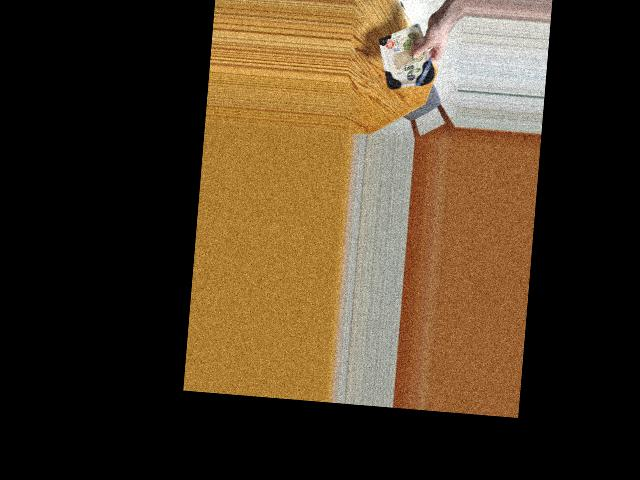cheese: (376, 31, 439, 94)
